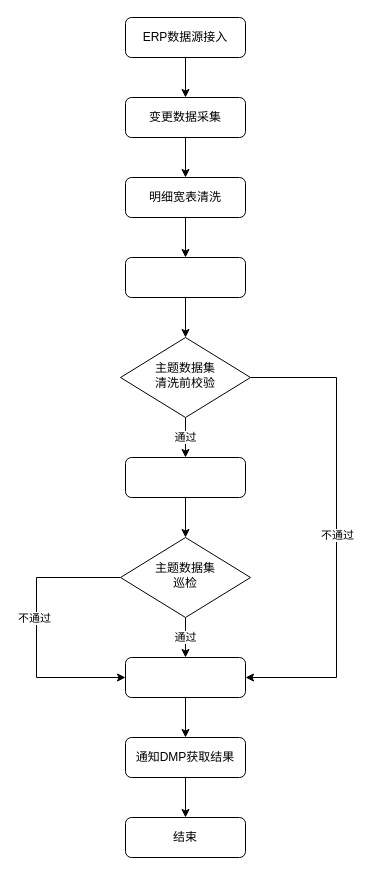
The diagram is 370 pixels wide and 875 high, and some of its shapes have lost their labels. Each missing label, with the centre of its shape:
上传结果到OSS: point 185,677
主题数据集清洗: point 185,477
汇总宽表清洗: point 185,277
